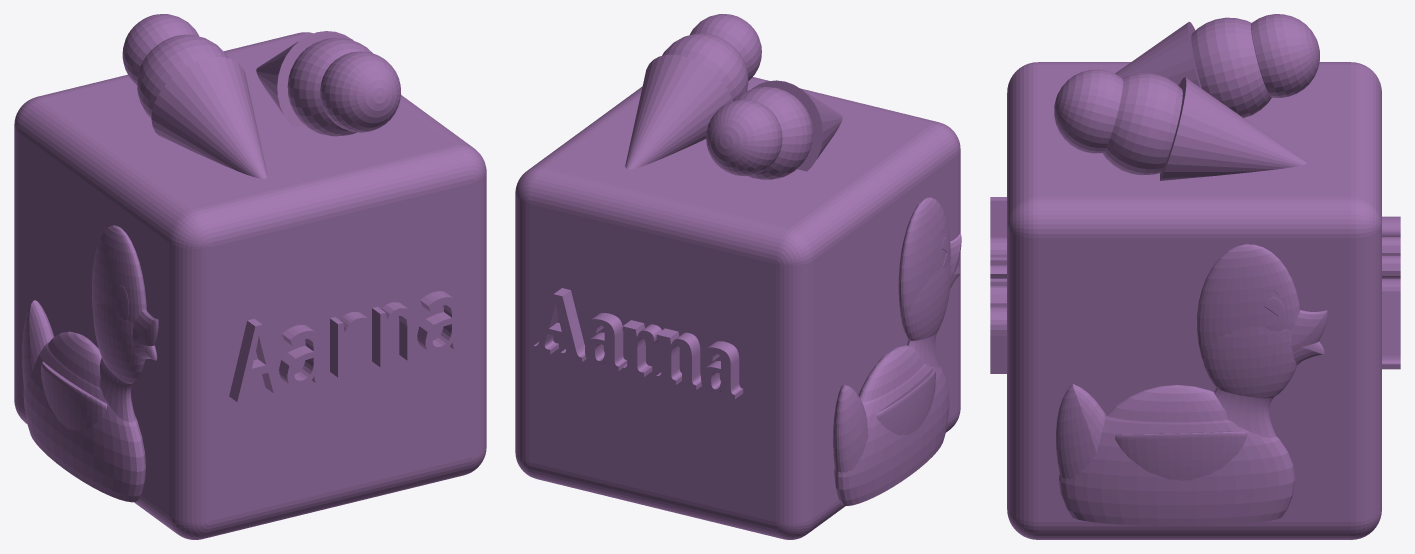
Rendered from X - Aarna- Nebula purple.glb.
3 renders of one model, left to right at view 1: azimuth 30°, elevation 25°; view 2: azimuth 150°, elevation 25°; view 3: azimuth 270°, elevation 25°, orthographic. The views are drawn at different scales.
Parts seen in each view (by area): view 1: Mesh_Mesh_head_geo.001_lambert2SG.001; view 2: Mesh_Mesh_head_geo.001_lambert2SG.001; view 3: Mesh_Mesh_head_geo.001_lambert2SG.001.
Part boxes in pixels (bbox=[...]): Mesh_Mesh_head_geo.001_lambert2SG.001: bbox=[14, 14, 486, 539]; Mesh_Mesh_head_geo.001_lambert2SG.001: bbox=[515, 14, 961, 539]; Mesh_Mesh_head_geo.001_lambert2SG.001: bbox=[990, 14, 1400, 539].
Bounding box in the file's own units: 0.047 × 0.0505 × 0.0438.
